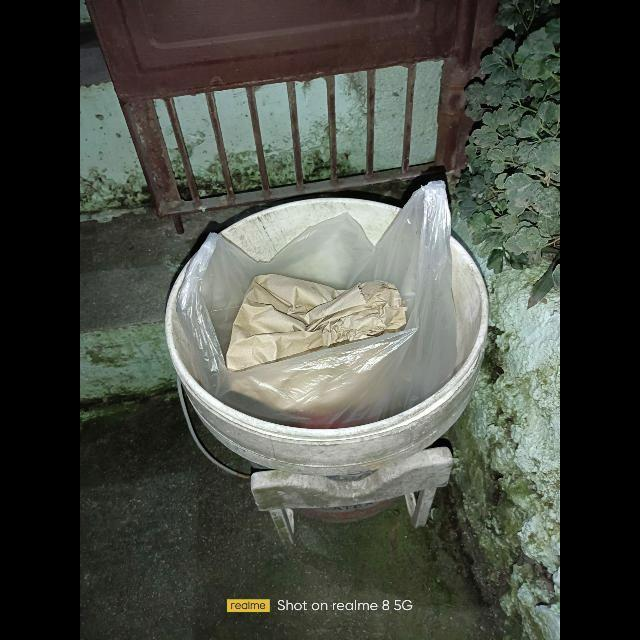paper: (226, 274, 408, 371)
plastic_bag: (180, 181, 457, 430)
